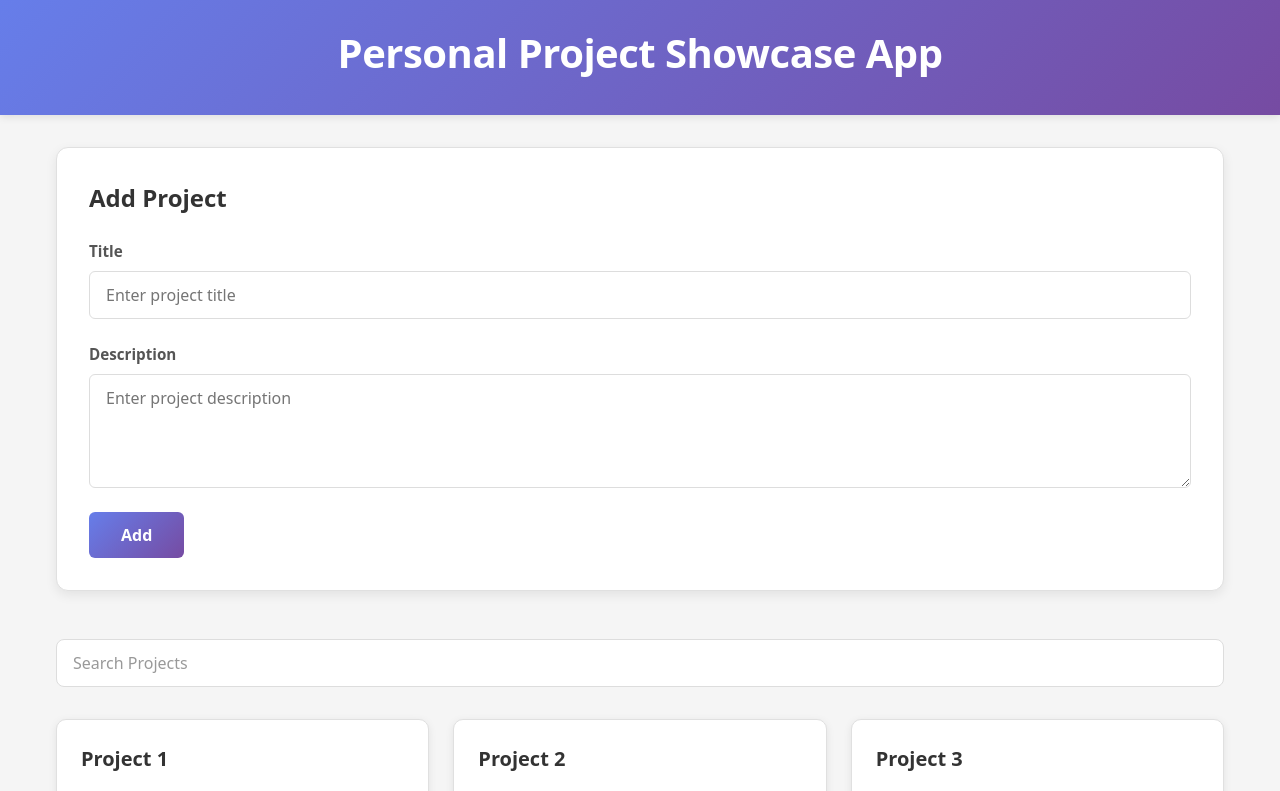
Scenario: App › adds new project when form is submitted
The image size is (1280, 791).
Type "New Test Project" into the field labelled "Title" at coordinates (640, 295), box 89,271 -> 1191,319
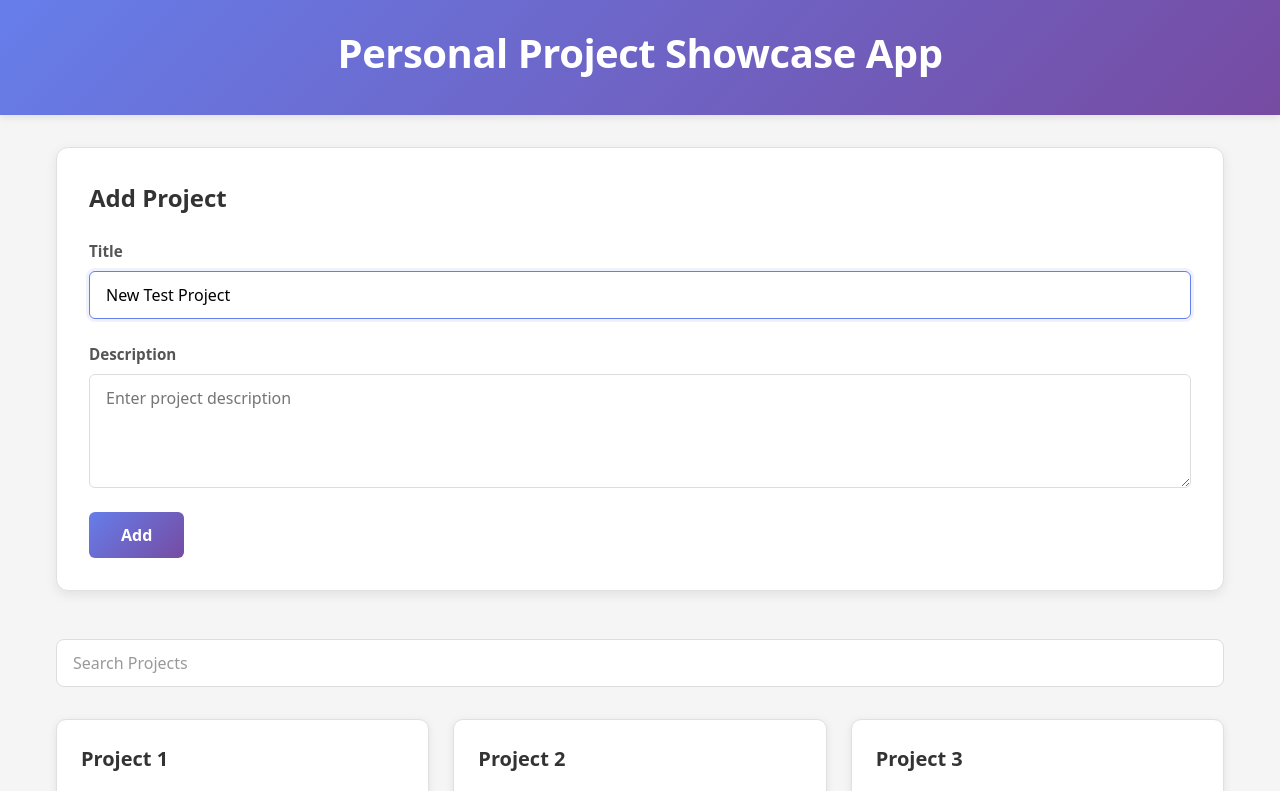
Type "This is a new test project" into the text box labelled "Description" at coordinates (640, 431), box 89,374 -> 1191,488
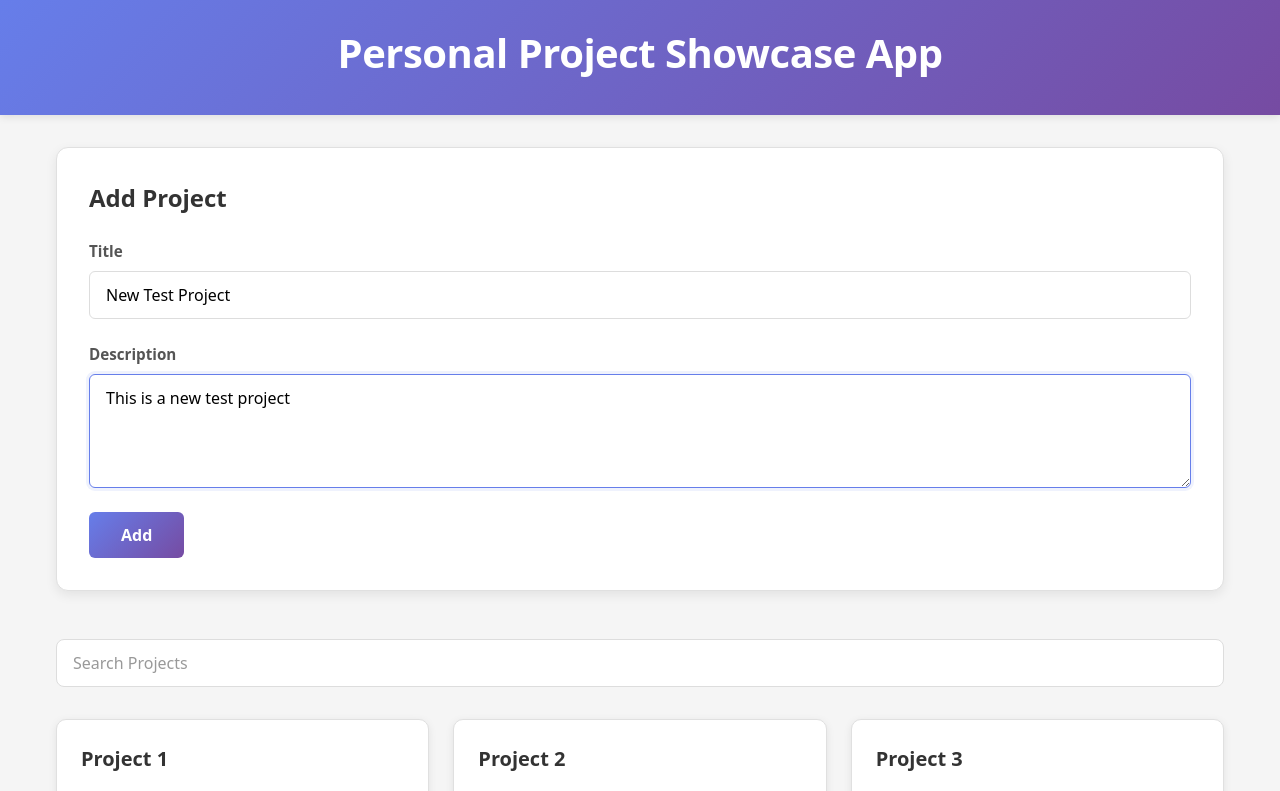
Click the button "Add" at coordinates (137, 535), box 89,512 -> 184,558
(page scrolled)
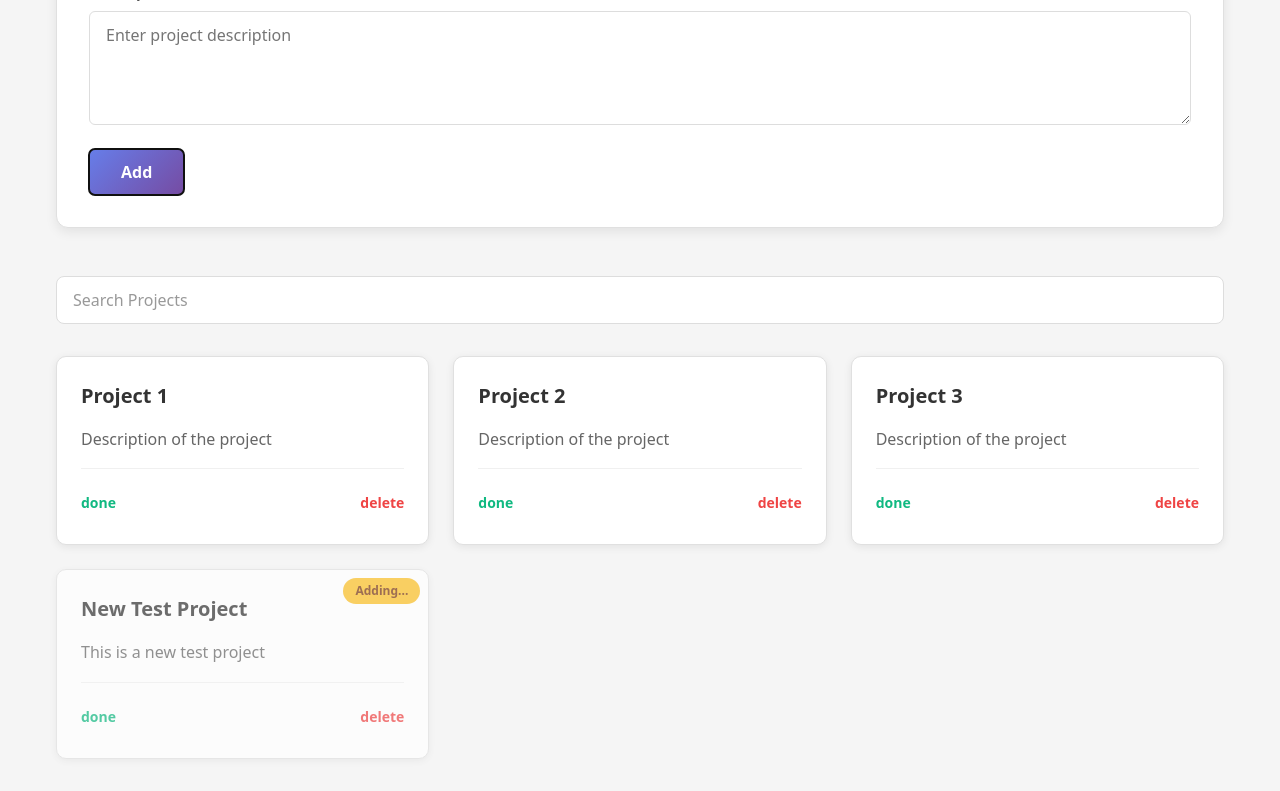
Now the heading "New Test Project" is shown, box 81,595 -> 247,622
Now the text "This is a new test project" is shown, box 81,641 -> 265,663
